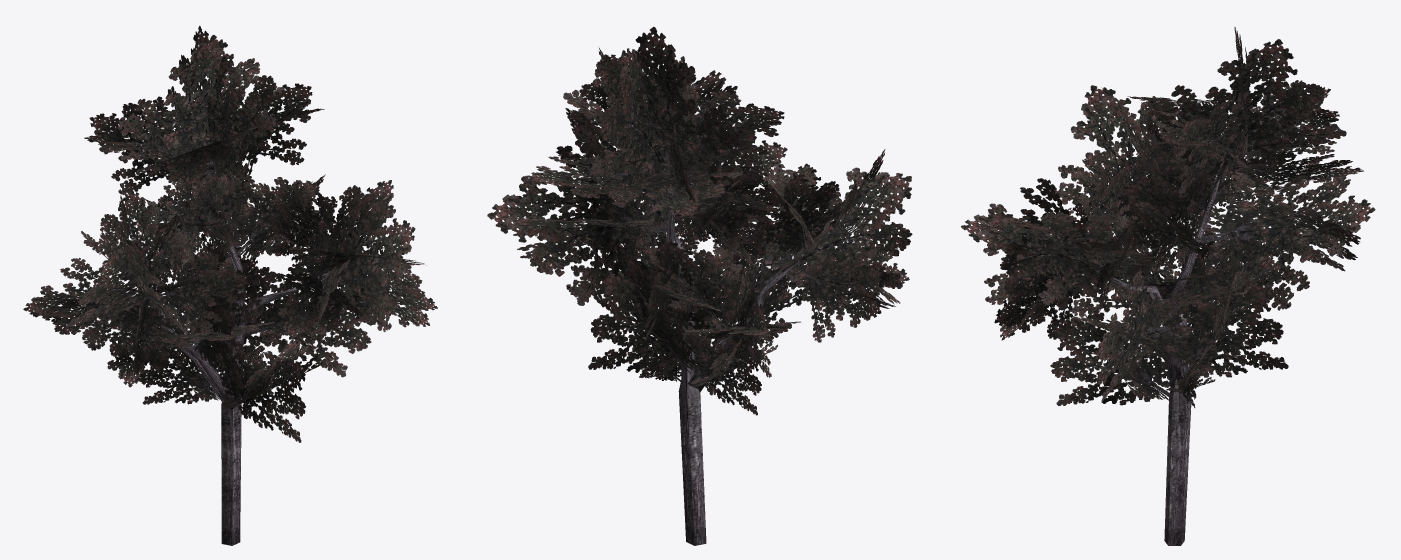
Rendered from tree_C.FBX.
The picture shows the model from 3 angles, left to right: view 1: azimuth 30°, elevation 25°; view 2: azimuth 150°, elevation 25°; view 3: azimuth 270°, elevation 25°; orthographic projection. The views are drawn at different scales.
Parts seen in each view (by area): view 1: OPAQUE03; view 2: OPAQUE03; view 3: OPAQUE03.
Part boxes in pixels (bbox=[...]): OPAQUE03: bbox=[23, 25, 437, 545]; OPAQUE03: bbox=[487, 26, 912, 545]; OPAQUE03: bbox=[961, 27, 1375, 545].
Bounding box in the file's own units: 17.86 × 24.24 × 18.07.
